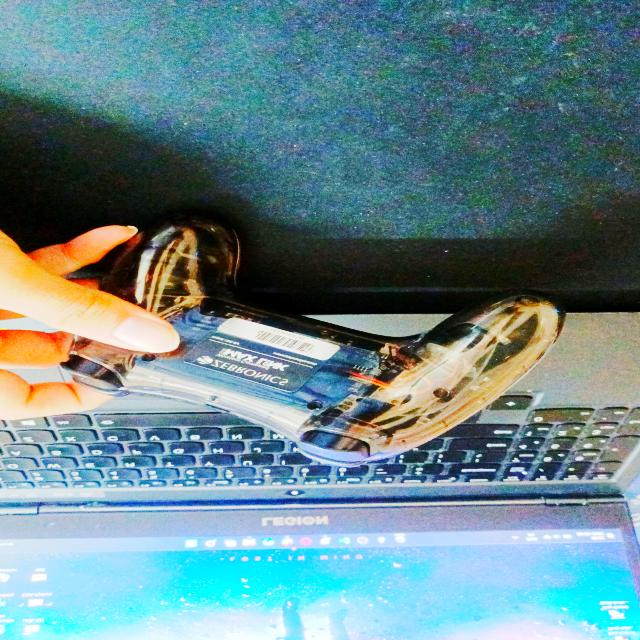gamepad: (55, 214, 565, 467)
